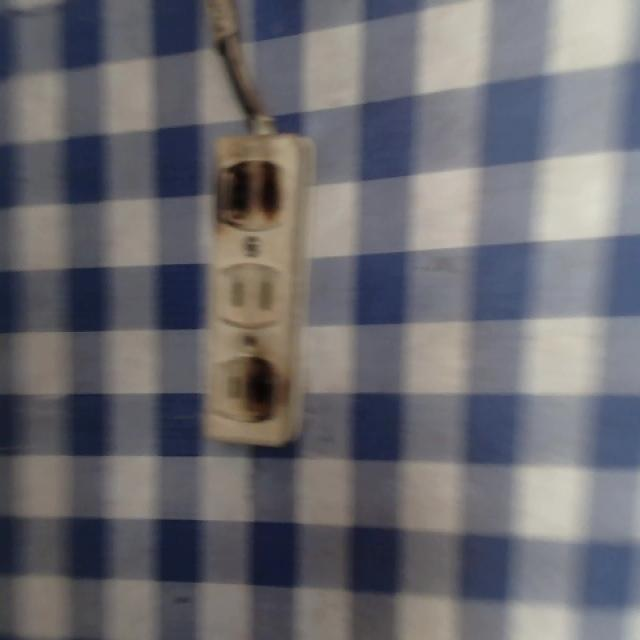-: (212, 155, 288, 236), (242, 348, 281, 432)
